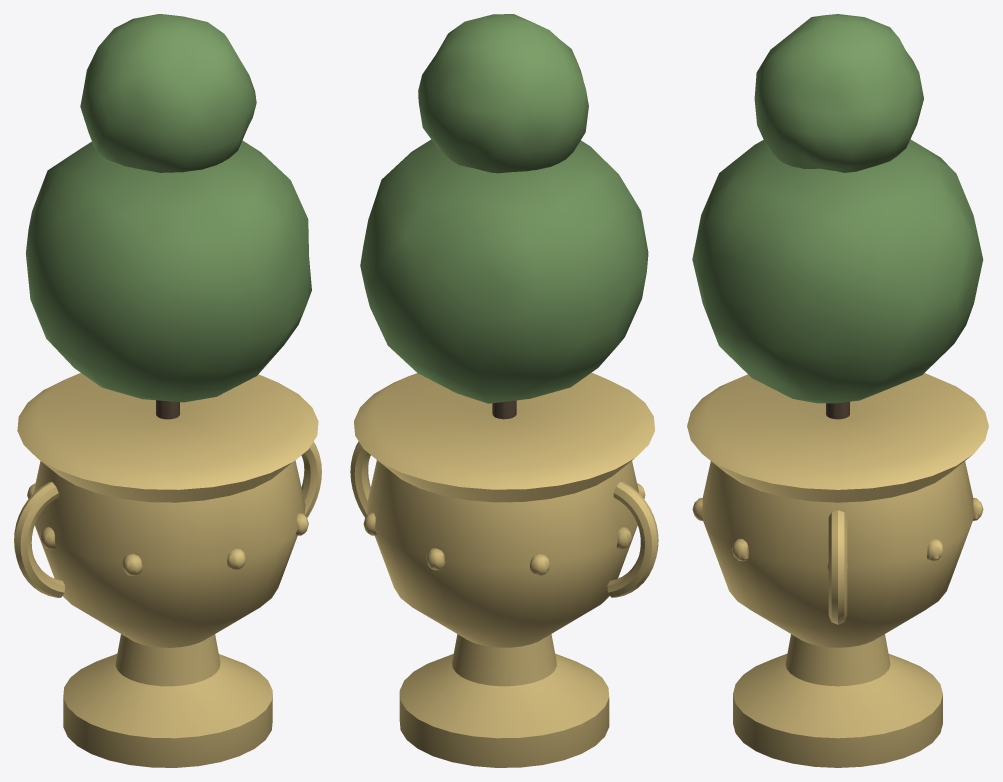
File: obj_kit_urnplant.glb
3 views of the same model, side by side, from view 1: azimuth 30°, elevation 25°; view 2: azimuth 150°, elevation 25°; view 3: azimuth 270°, elevation 25° (orthographic).
Parts seen in each view (by area): view 1: urn, Icosphere, Icosphere.001, handle, handle.001; view 2: urn, Icosphere, Icosphere.001, handle, handle.001; view 3: urn, Icosphere, Icosphere.001, handle.001.
Part boxes in pixels (box(x1,y1,x2,y2)): urn: box(17, 373, 318, 767); Icosphere: box(25, 140, 311, 402); Icosphere.001: box(80, 14, 256, 172); handle: box(14, 482, 64, 597); handle.001: box(301, 441, 321, 517); urn: box(354, 372, 654, 767); Icosphere: box(360, 139, 648, 403); Icosphere.001: box(418, 14, 588, 173); handle: box(607, 481, 658, 597); handle.001: box(350, 441, 370, 517); urn: box(687, 373, 988, 767); Icosphere: box(692, 139, 983, 403); Icosphere.001: box(754, 14, 923, 172); handle.001: box(828, 510, 847, 624).
Bounding box in the file's own units: 0.5385 × 1.18 × 0.46.
